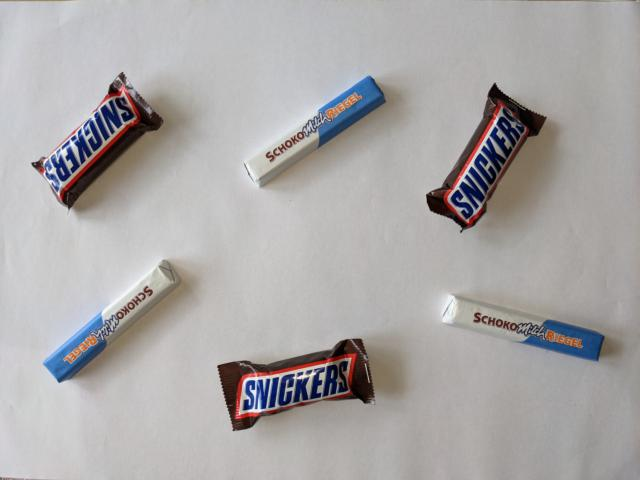Schokoriegel: (40, 255, 185, 385), (239, 75, 389, 191), (438, 290, 607, 365)
Snickers: (28, 70, 166, 217), (424, 81, 549, 234), (215, 336, 378, 433)
